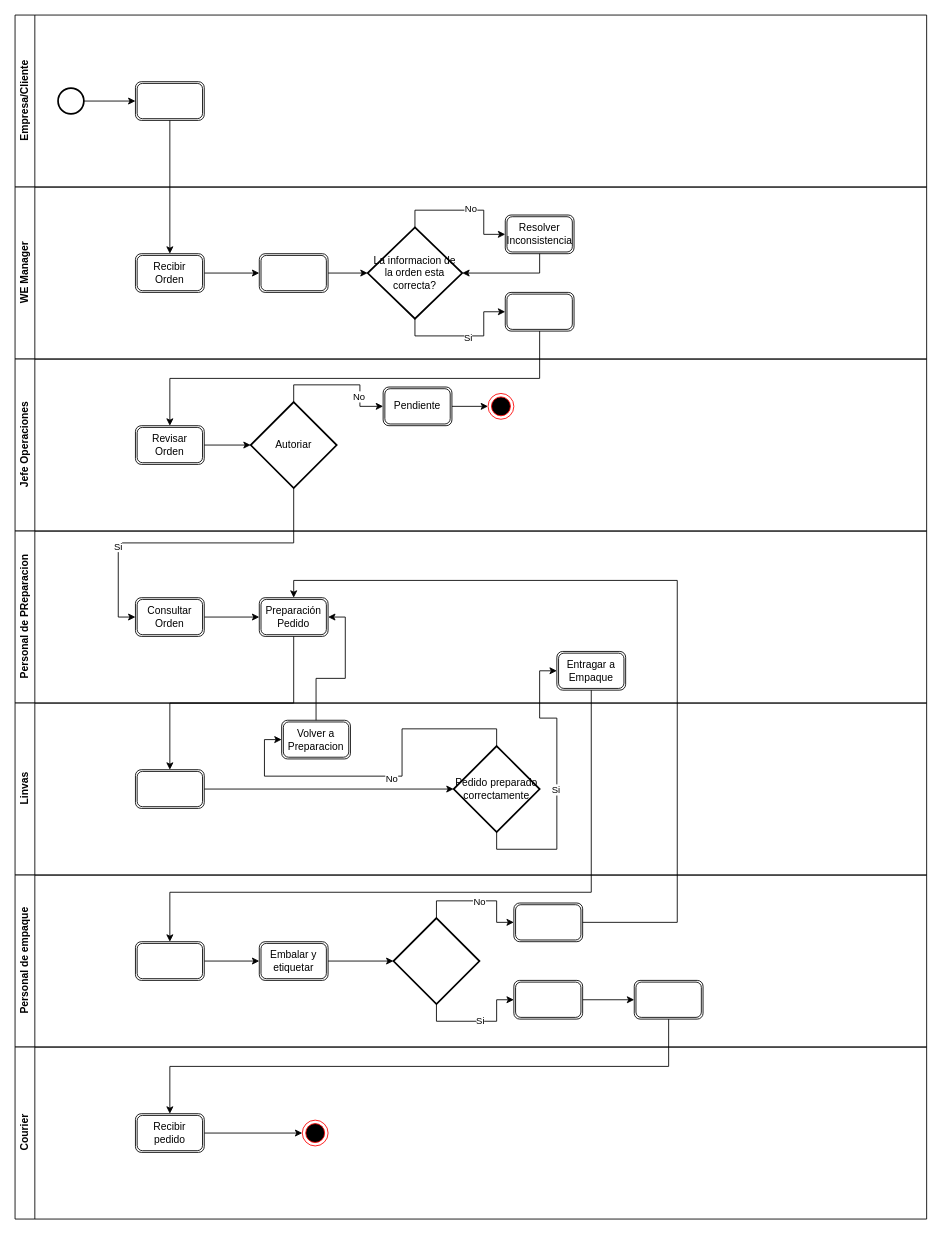
Image size: 942x1234. Some labels were removed from this diagram. The shapes that lost their labels are listed below. From the top down, each one's centre as x and y in pixels, then its label:
At point 70,100: "Inicio".
At point 169,100: "Enviar / Generar Orden".
At point 293,272: "Revisar información de la orden".
At point 539,311: "Registrar / Coordinar orden".
At point 169,788: "Gestionar Preparación del pedido".
At point 548,922: "Devolver a preparacion".
At point 169,960: "Revisar Productos".
At point 436,960: "Pedido listo para retiro".
At point 548,999: "Preparar pedido para entregar al courier".
At point 668,999: "Entregar pedido al courier".
